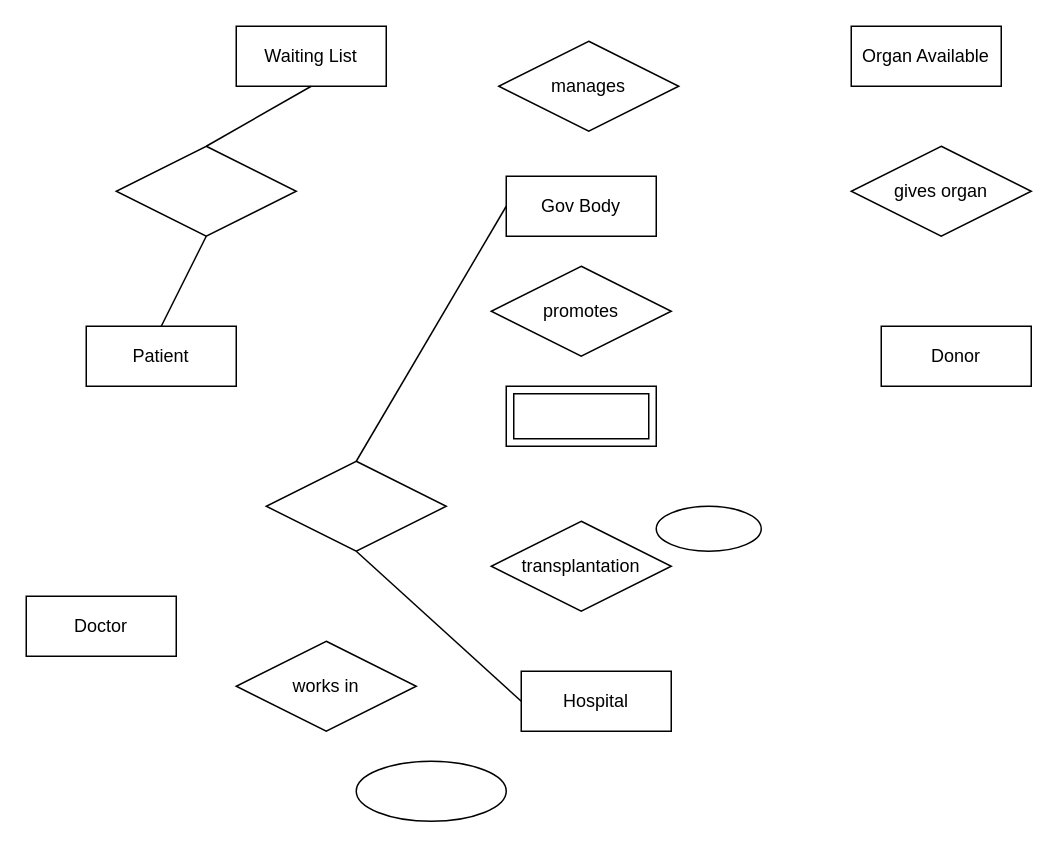
This 1058x848 diagram has some shape labels left out. The shapes that lost their labels are listed below. From the top down, each one's centre as x and y in pixels, then its label:
the point at 205,190: require organ
the point at 580,415: Awareness Programs
the point at 355,505: belongs
the point at 708,528: status
the point at 430,790: location
